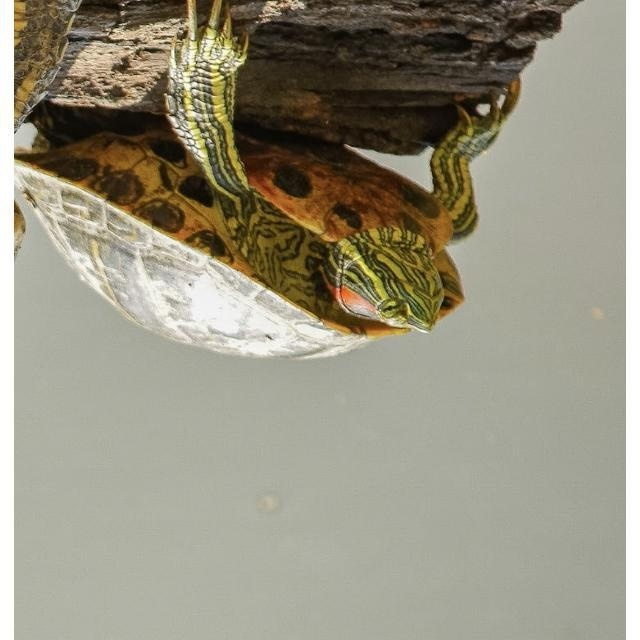turtle: (17, 3, 520, 361)
